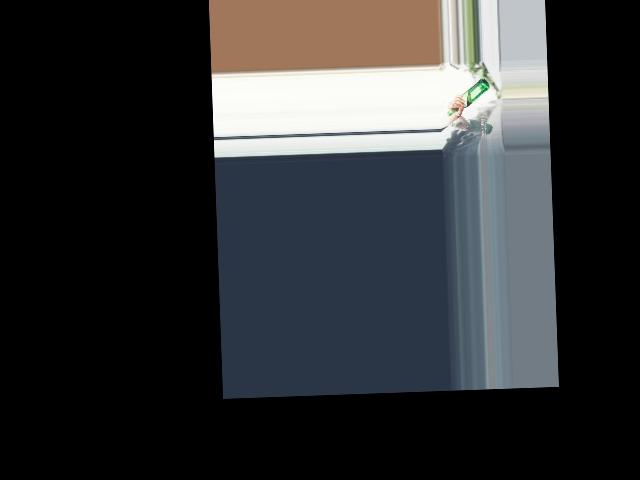beer: (446, 79, 491, 117)
